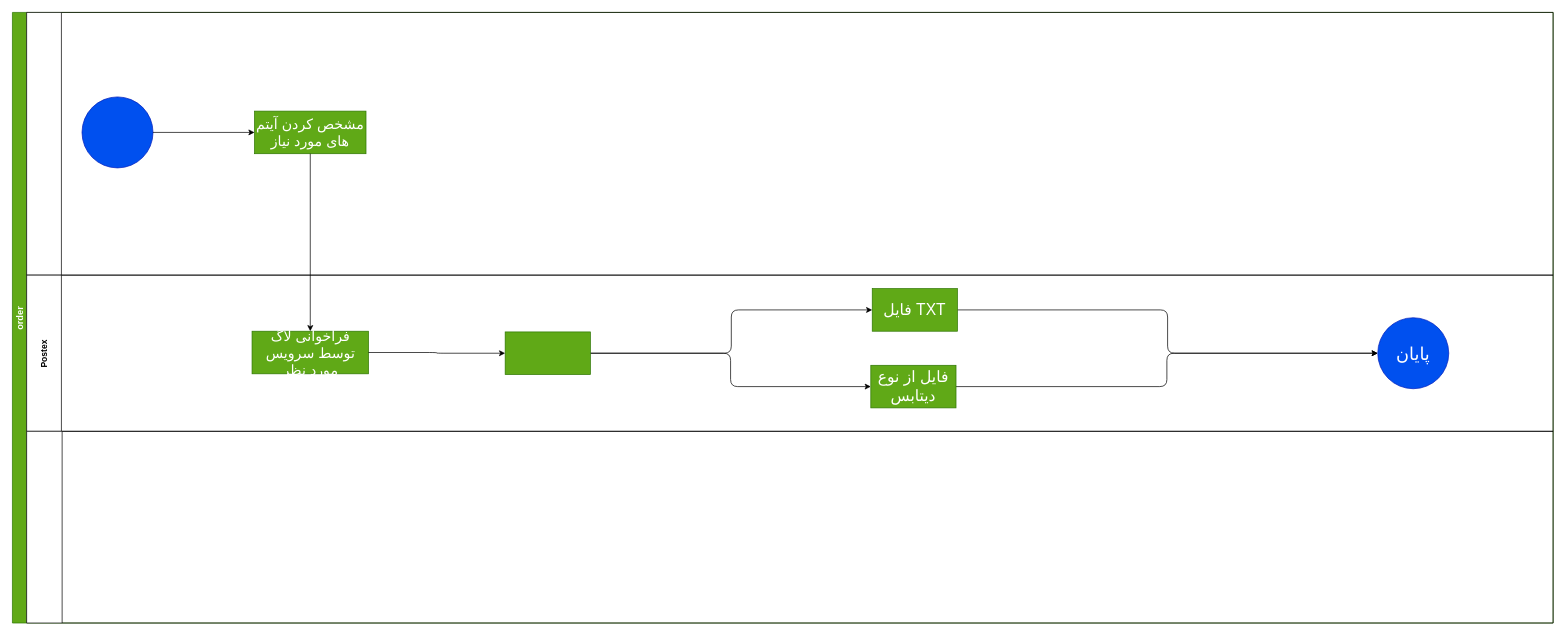
This 1566x635 diagram has some shape labels left out. Here are the shapes that lost their labels. From the top down, the box of each, then its label:
(81, 96, 153, 168): شروع
(26, 12, 1553, 275): Customer
(504, 331, 590, 375): ایجاد گزارش
(26, 431, 1553, 623): Vendor
